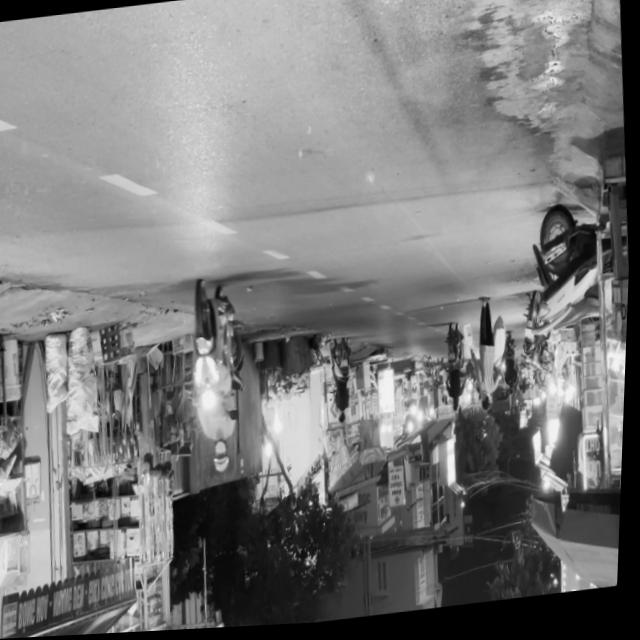helmet: (213, 441, 232, 477)
licenseplate: (182, 277, 252, 481)
